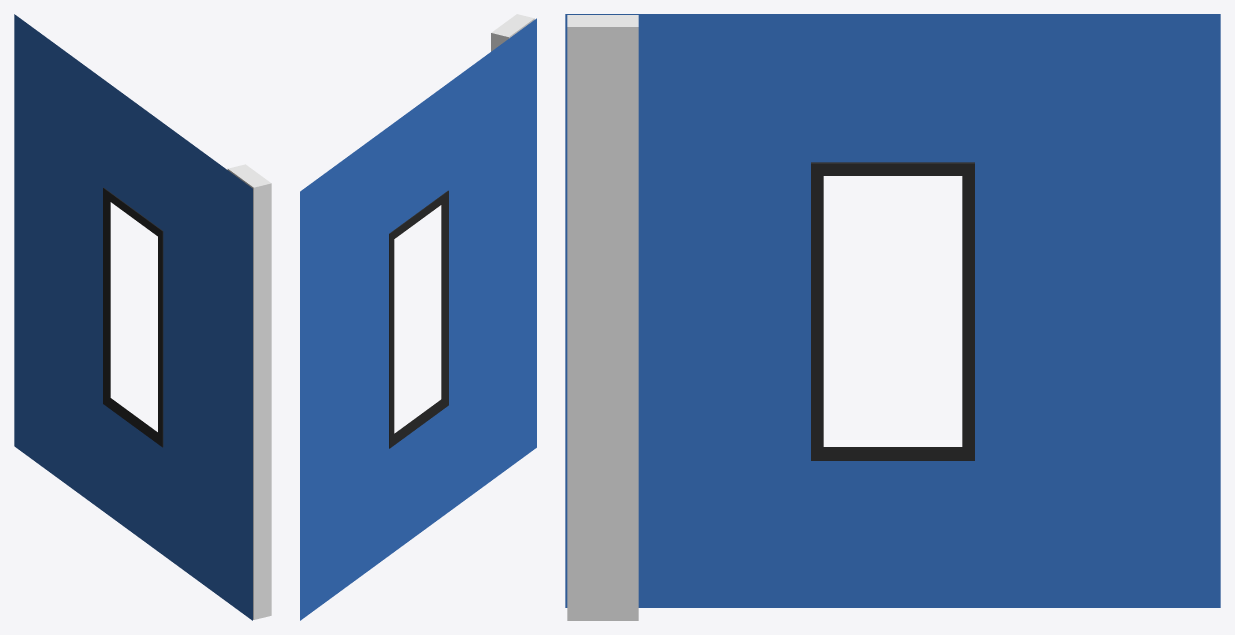
The model's file is binnenmuren1-window.fbx.
3 renders of one model, left to right at view 1: azimuth 30°, elevation 25°; view 2: azimuth 150°, elevation 25°; view 3: azimuth 270°, elevation 25°, orthographic. The views are drawn at different scales.
Parts seen in each view (by area): view 1: Plane, Cube.001, Cube; view 2: Plane, Cube, Cube.001; view 3: Plane, Cube.001, Cube.
Part boxes in pixels (left/top/right/bottom): Plane: left=14, top=14, right=252, bottom=620; Cube.001: left=227, top=164, right=271, bottom=619; Cube: left=103, top=187, right=163, bottom=447; Plane: left=300, top=18, right=536, bottom=620; Cube: left=389, top=190, right=448, bottom=448; Cube.001: left=491, top=14, right=534, bottom=51; Plane: left=565, top=14, right=1220, bottom=607; Cube.001: left=567, top=15, right=638, bottom=620; Cube: left=811, top=162, right=974, bottom=460.
Size of the model in its own units: 9.76 by 200 by 200.
